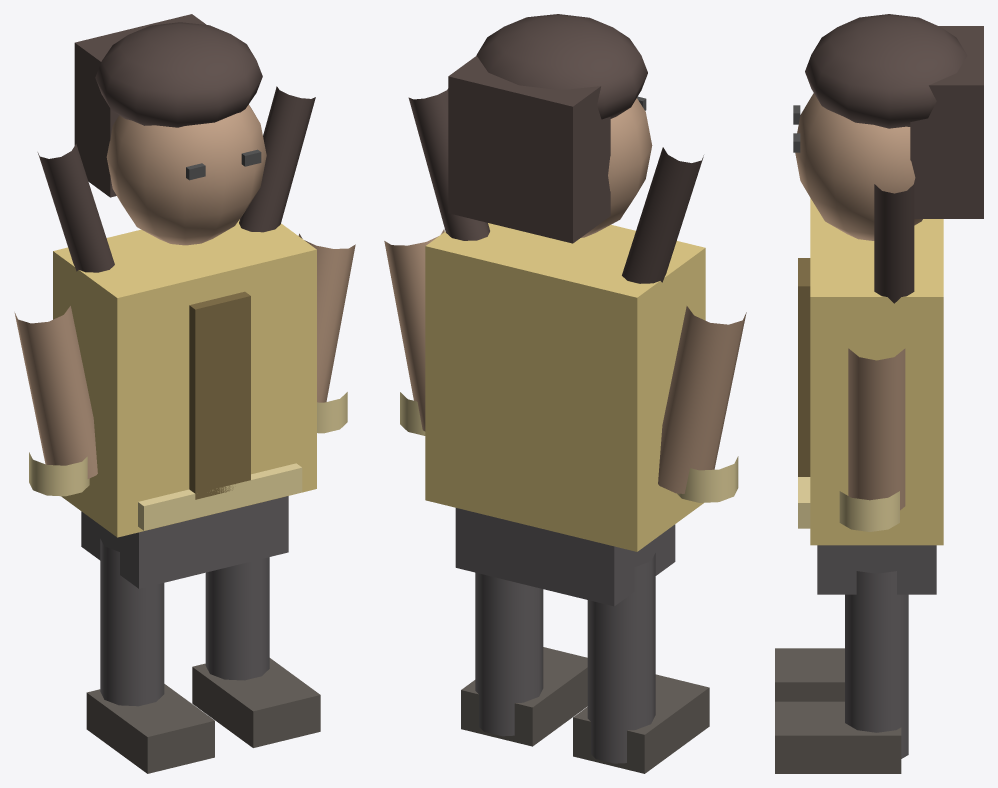
The model's file is mel.glb.
The picture shows the model from 3 angles, left to right: view 1: azimuth 30°, elevation 25°; view 2: azimuth 150°, elevation 25°; view 3: azimuth 270°, elevation 25°; orthographic projection. The views are drawn at different scales.
Parts seen in each view (by area): view 1: Torso, Head, HairCap, Vest, Pelvis, ArmL, LegL, FootR, FootL, LegR, HairBack, HairR (+5 smaller); view 2: Torso, HairBack, Pelvis, HairCap, LegL, ArmL, LegR, FootL, HairL, FootR, ArmR, Head (+3 smaller); view 3: Torso, HairCap, Head, HairBack, LegR, ArmR, FootR, Pelvis, HairR, FootL, Vest, CuffR (+1 smaller).
Part boxes in pixels (x1,y1,x2,y2): Torso: [53, 219, 316, 537]; Head: [106, 104, 266, 245]; HairCap: [95, 22, 262, 127]; Vest: [189, 291, 250, 499]; Pelvis: [81, 496, 288, 588]; ArmL: [14, 306, 97, 478]; LegL: [100, 539, 164, 706]; FootR: [192, 658, 320, 747]; FootL: [86, 684, 214, 773]; LegR: [205, 557, 269, 680]; HairBack: [74, 14, 206, 197]; HairR: [239, 86, 315, 232]; Torso: [425, 223, 705, 551]; HairBack: [448, 56, 610, 243]; Pelvis: [455, 508, 675, 606]; HairCap: [476, 14, 647, 119]; LegL: [587, 553, 655, 763]; ArmL: [658, 306, 746, 493]; LegR: [475, 572, 543, 736]; FootL: [573, 674, 709, 773]; HairL: [622, 147, 703, 283]; FootR: [461, 647, 587, 746]; ArmR: [384, 229, 444, 431]; Head: [581, 98, 652, 237]; Torso: [810, 198, 943, 545]; HairCap: [805, 14, 967, 128]; Head: [795, 93, 922, 240]; HairBack: [910, 26, 983, 218]; LegR: [845, 571, 908, 758]; ArmR: [848, 348, 905, 510]; FootR: [775, 701, 901, 773]; Pelvis: [817, 545, 936, 594]; HairR: [874, 184, 914, 303]; FootL: [775, 648, 844, 701]; Vest: [798, 258, 810, 476]; CuffR: [839, 491, 899, 531].
Size of the model in its own units: 1.14 by 2.21 by 0.595.
